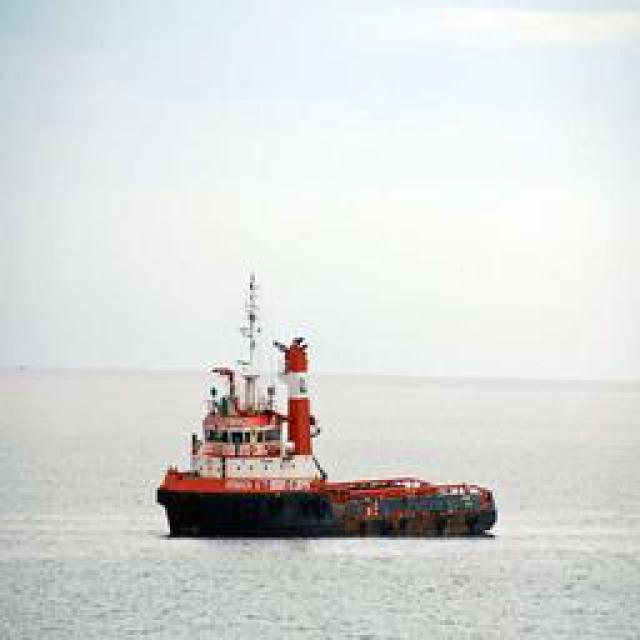Ship: (160, 282, 498, 545)
